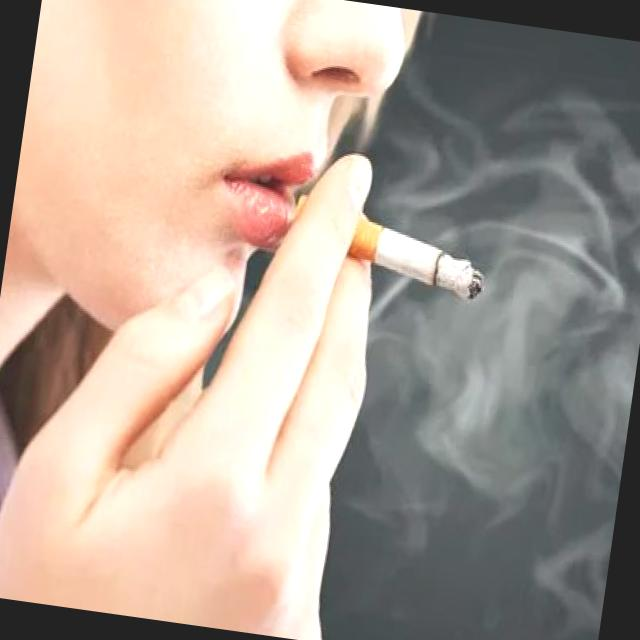cigarette: (284, 190, 496, 304)
